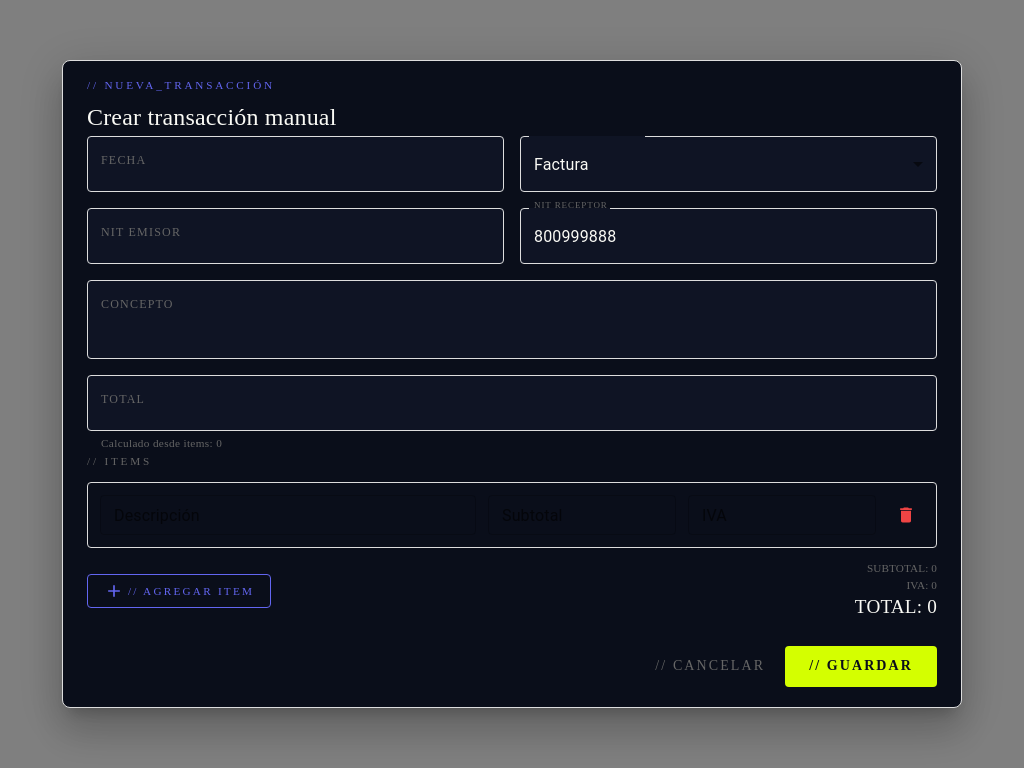
Test case: TransactionFormModal › validates required fields on submit
Click the button "// GUARDAR" at [861, 666], box [785, 646, 937, 687]
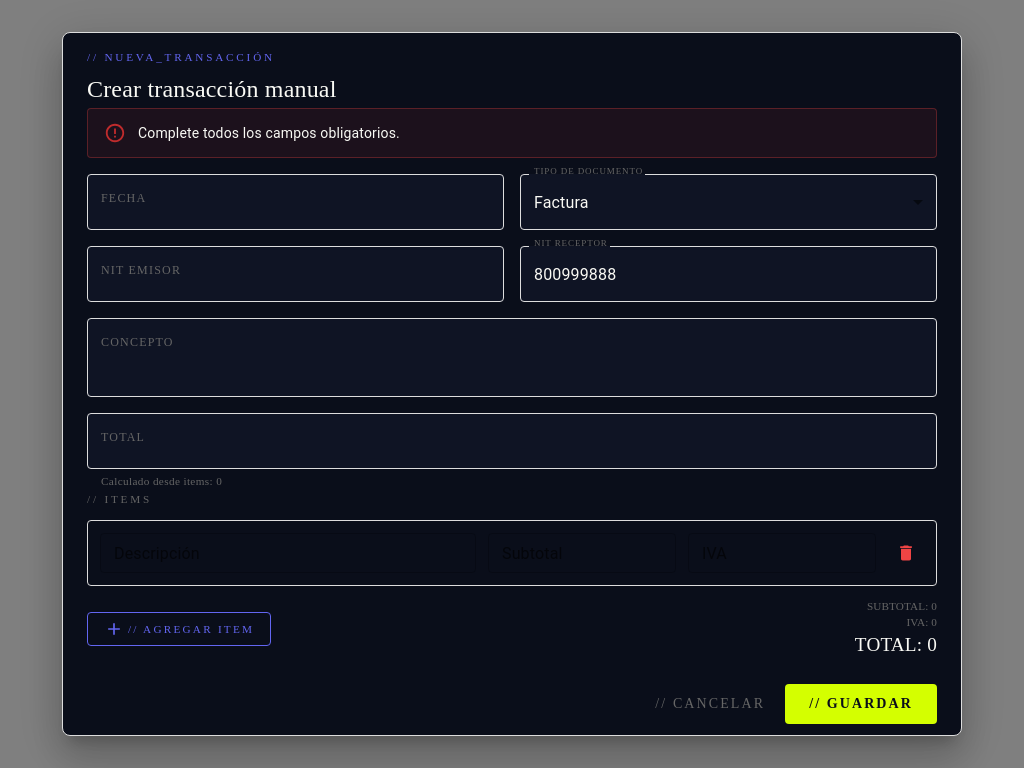
Expected: the text "Complete todos los campos obligatorios." is shown, [138, 125, 400, 141]
